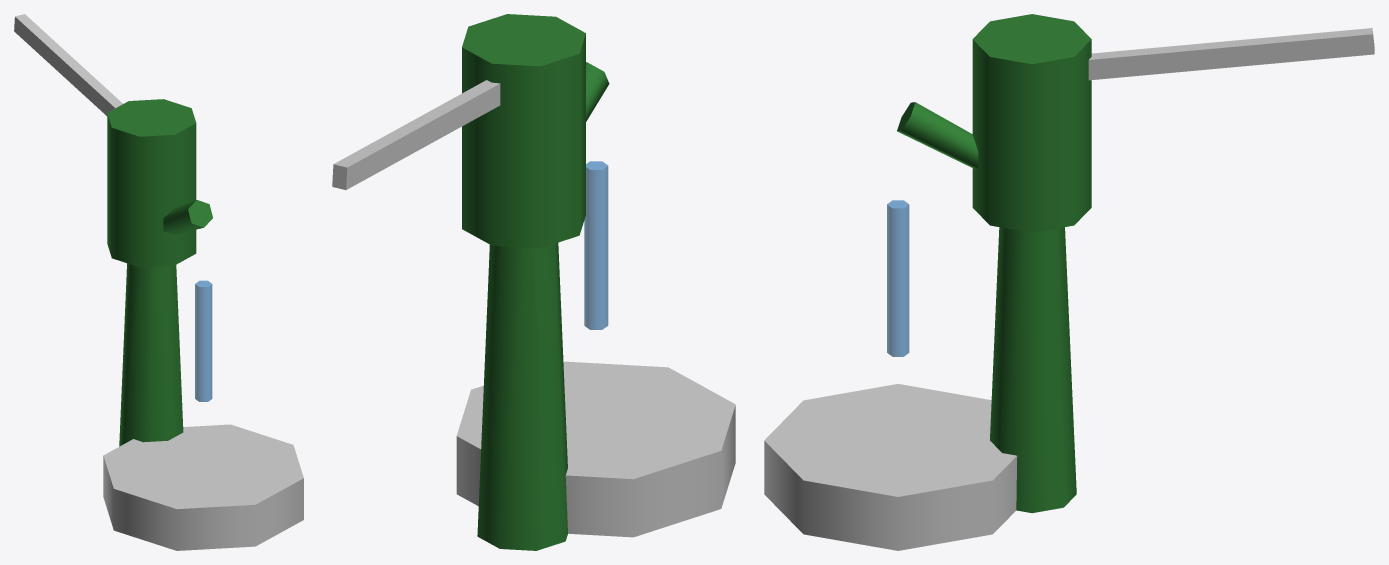
The model's file is waterpump.glb.
The picture shows the model from 3 angles, left to right: view 1: azimuth 30°, elevation 25°; view 2: azimuth 150°, elevation 25°; view 3: azimuth 270°, elevation 25°; orthographic projection. The views are drawn at different scales.
Visible parts, largest first — view 1: waterpump, pump_handle, water_spray; view 2: waterpump, pump_handle, water_spray; view 3: waterpump, pump_handle, water_spray.
Boxes of the visible parts, left/top/right/bottom form: waterpump: left=103, top=99, right=303, bottom=550; pump_handle: left=14, top=14, right=122, bottom=115; water_spray: left=195, top=280, right=212, bottom=401; waterpump: left=456, top=14, right=735, bottom=550; pump_handle: left=332, top=80, right=500, bottom=189; water_spray: left=584, top=161, right=608, bottom=329; waterpump: left=764, top=14, right=1091, bottom=550; pump_handle: left=1088, top=28, right=1374, bottom=80; water_spray: left=887, top=200, right=909, bottom=356.
Bounding box in the file's own units: 0.36 × 0.6869 × 0.8204.
